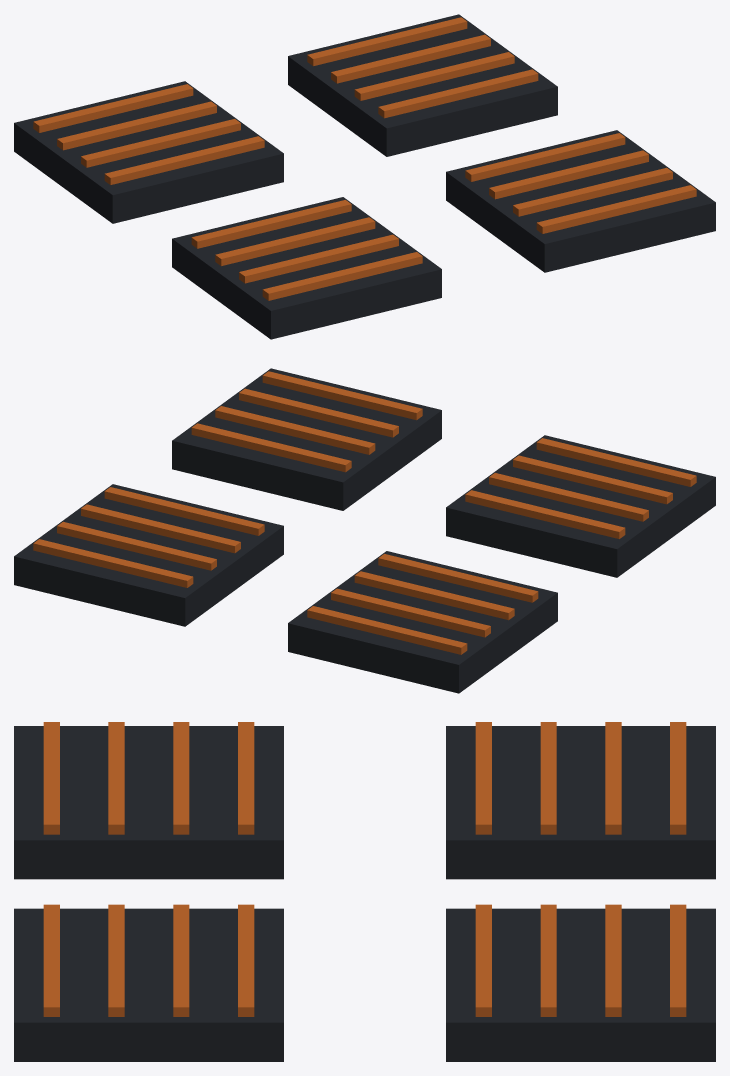
The model's file is friction-grip-gear.glb.
3 views of the same model, one above another, from view 1: azimuth 30°, elevation 25°; view 2: azimuth 150°, elevation 25°; view 3: azimuth 270°, elevation 25° (orthographic). The views are drawn at different scales.
Parts seen in each view (by area): view 1: m; view 2: m; view 3: m.
Boxes of the visible parts, x1,y1,x2,y2 form: m: (14,14,715,339); m: (14,368,715,693); m: (14,722,715,1061).
Size of the model in its own units: 0.14 by 0.0136 by 0.14.
